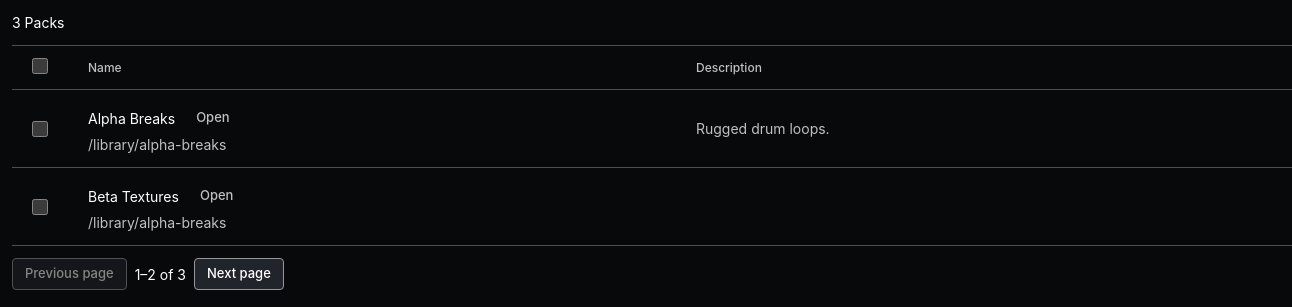
Scenario: loads one page at a time and stops at the last page
The width and height of the screenshot is (1292, 307).
Check: the row "Alpha Breaks Open /library/alpha-breaks Rugged drum loops." is shown, box [12, 90, 1291, 168]
Click the button "Next page": (239, 274) [194, 258, 284, 290]
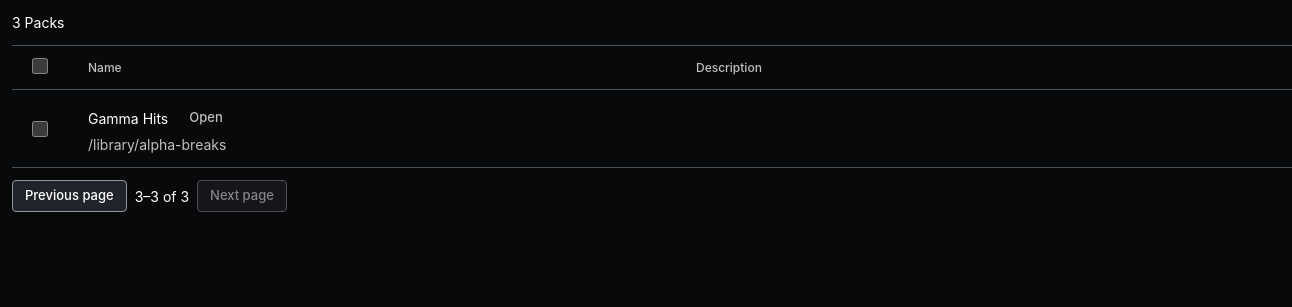
Check: the row "Gamma Hits Open /library/alpha-breaks" is shown, box [12, 90, 1291, 168]
Check: the text "Alpha Breaks" is gone
Check: the button "Next page" is disabled, box [197, 180, 287, 212]
